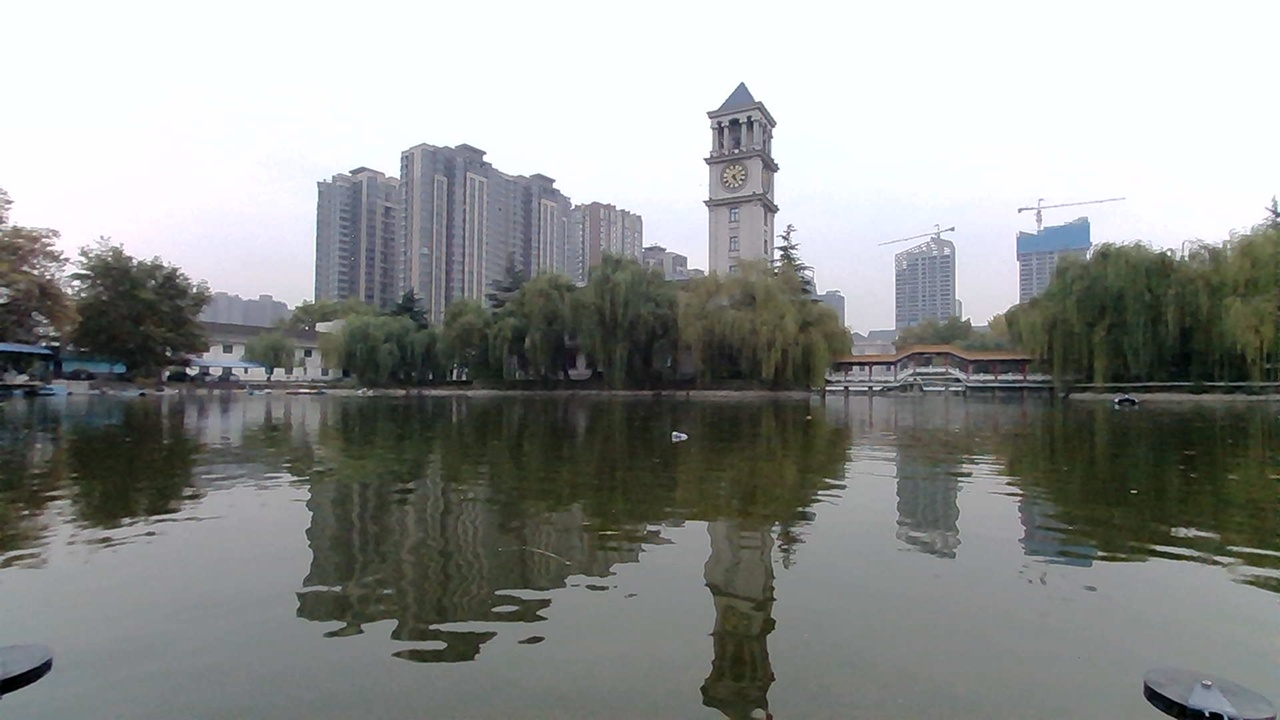bottle: (661, 418, 713, 456)
